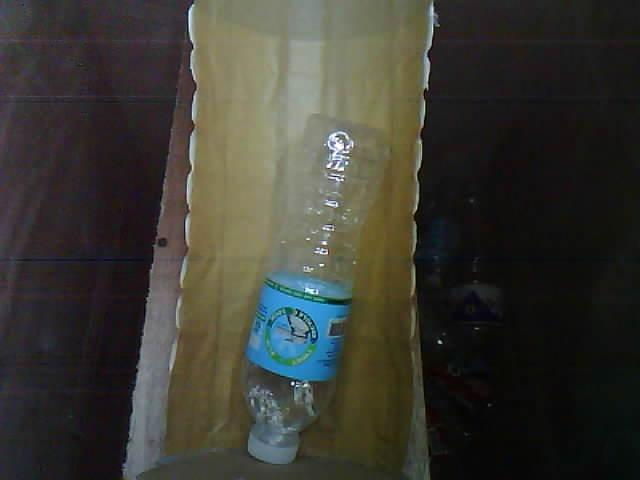small_bottle: (219, 99, 400, 480)
